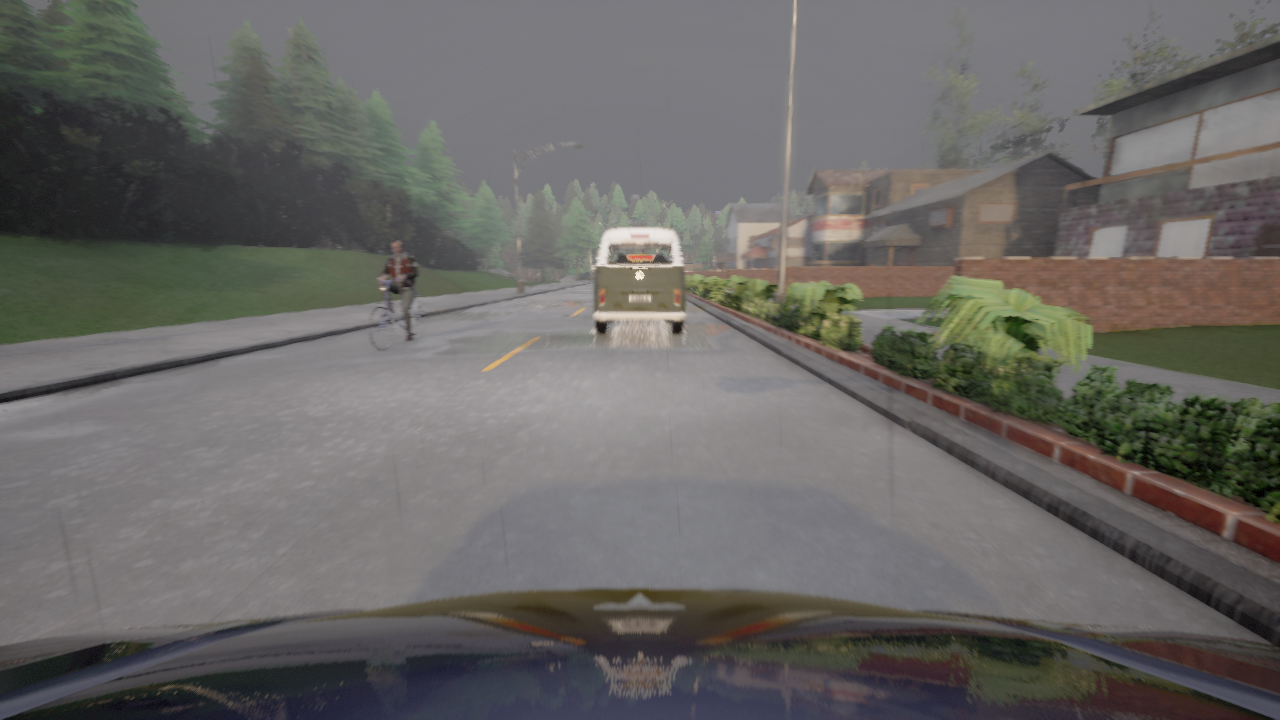cyclist: (0, 588, 1279, 719), (593, 228, 687, 334), (369, 278, 423, 350)
